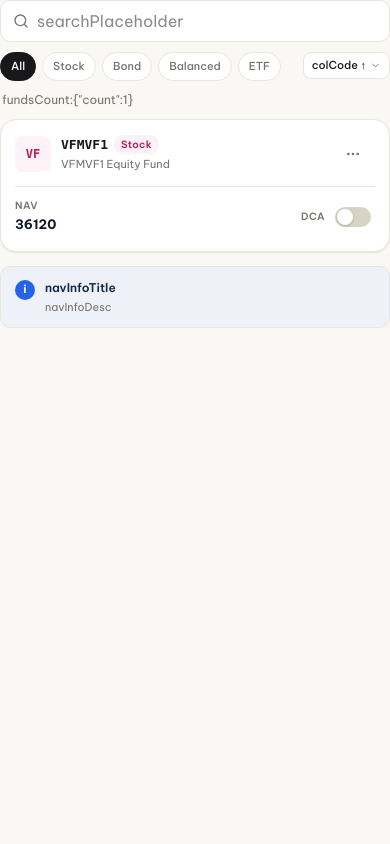
Scenario: MobileFundLibraryView — ETFs › follows the type the user picks in the open sheet
The width and height of the screenshot is (390, 844).
Click the button named "fundActions" at (353, 154), box [331, 132, 375, 176]
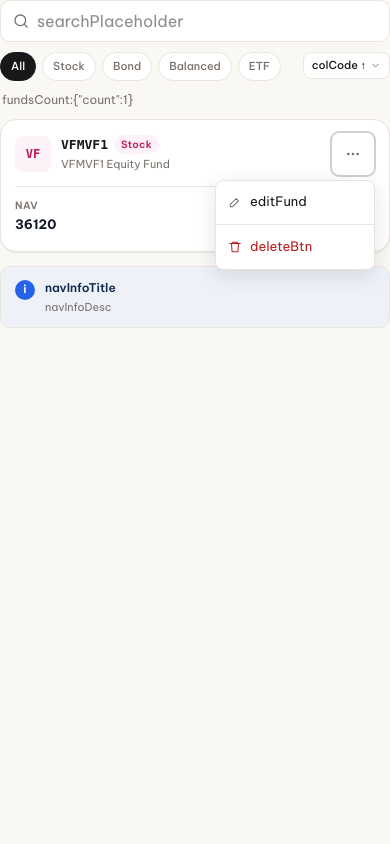
Click the menu item "editFund" at (295, 202), box [216, 180, 374, 224]
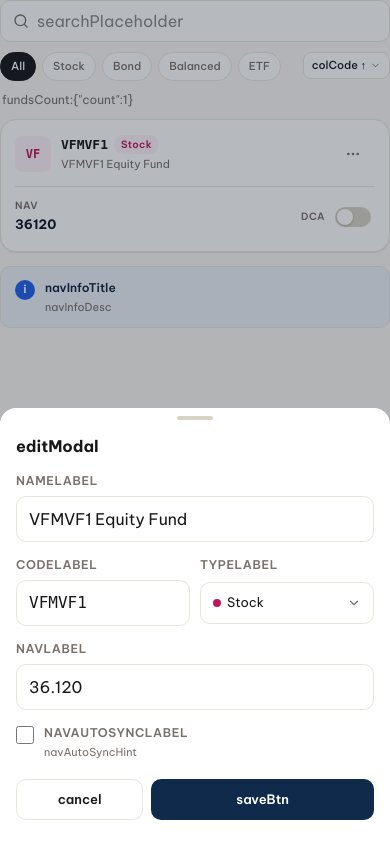
Click the button with test id "fund-form-type" at (287, 603), box [200, 582, 374, 624]
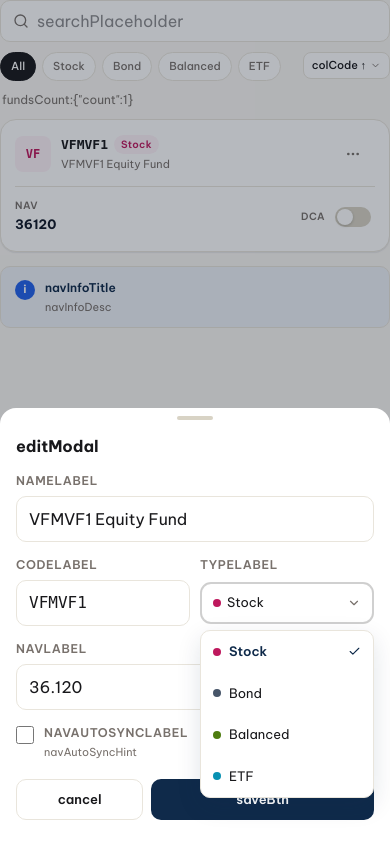
Click the button with test id "fund-form-type-etf" at (287, 776), box [201, 756, 373, 797]
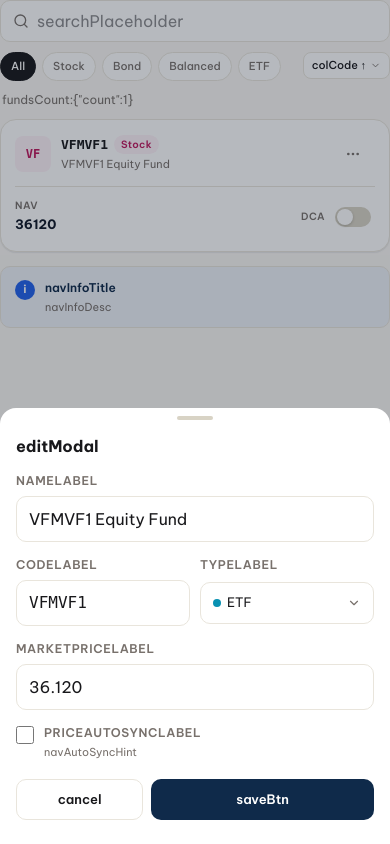
Expected: the text "marketPriceLabel" is shown, [16, 641, 155, 656]
